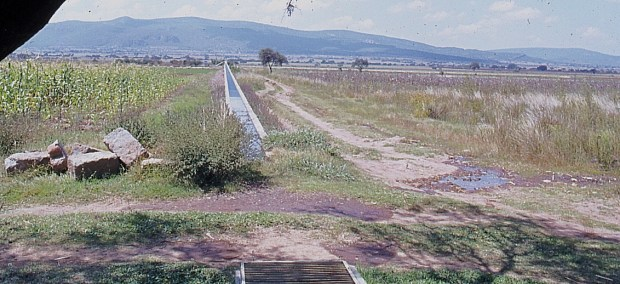canal: (220, 57, 265, 160)
vegetation: (377, 82, 620, 145), (1, 70, 178, 121), (172, 111, 253, 187)
water: (221, 56, 266, 159), (452, 169, 506, 192)
